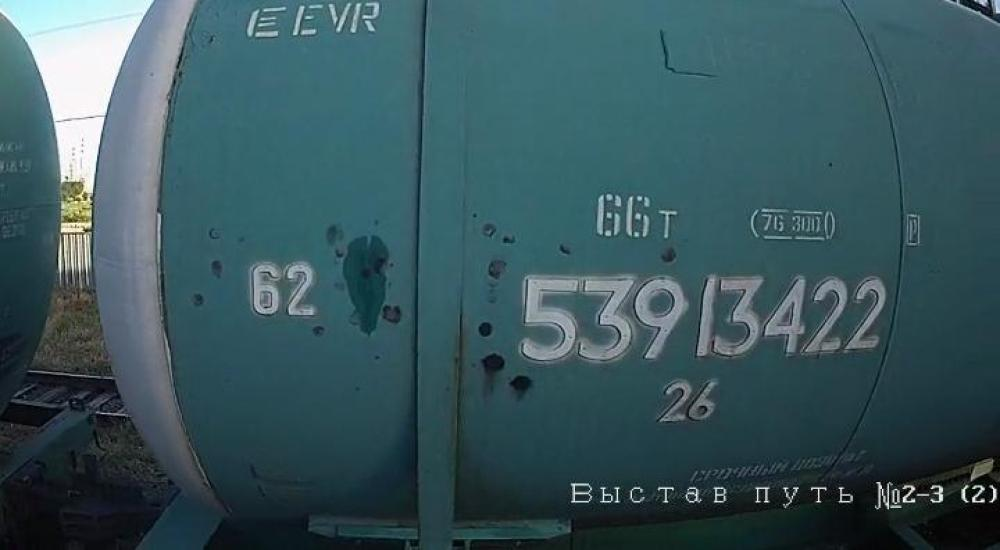Wagon-number: (514, 270, 893, 369)
